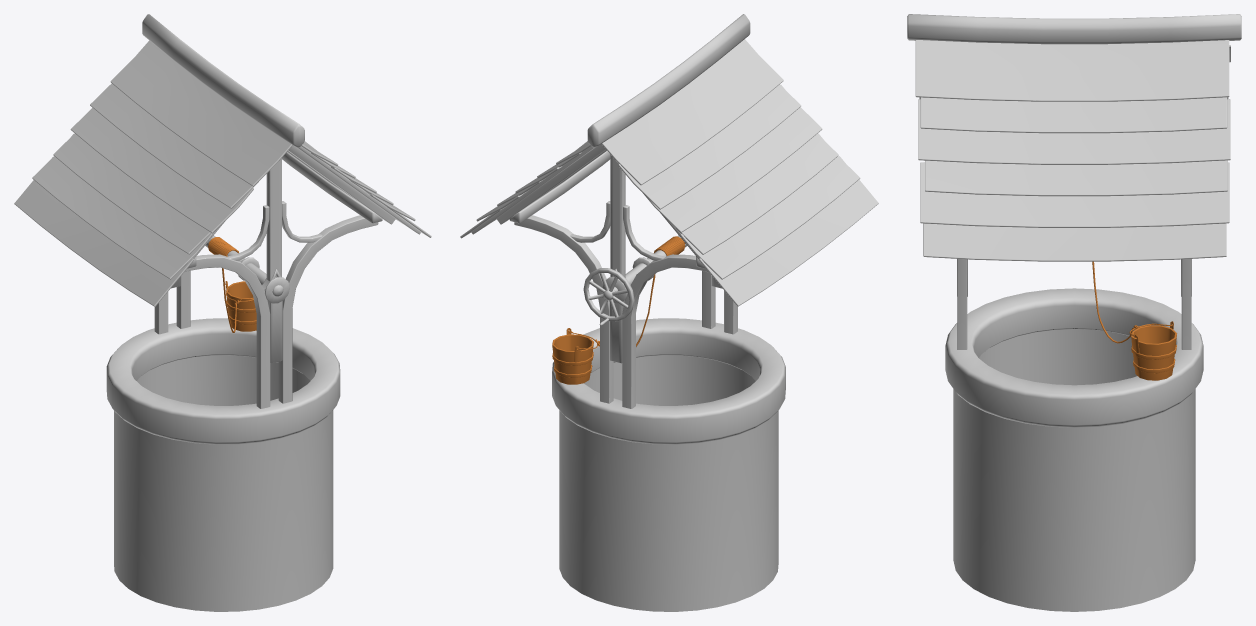
File: Pozo.fbx
The picture shows the model from 3 angles, left to right: view 1: azimuth 30°, elevation 25°; view 2: azimuth 150°, elevation 25°; view 3: azimuth 270°, elevation 25°; orthographic projection. The views are drawn at different scales.
Parts seen in each view (by area): view 1: Well_Model; view 2: Well_Model; view 3: Well_Model.
Part boxes in pixels (x1,y1,x2,y2): Well_Model: (14, 14, 431, 611); Well_Model: (460, 14, 878, 611); Well_Model: (907, 14, 1241, 611).
Size of the model in its own units: 158 by 269 by 149.
